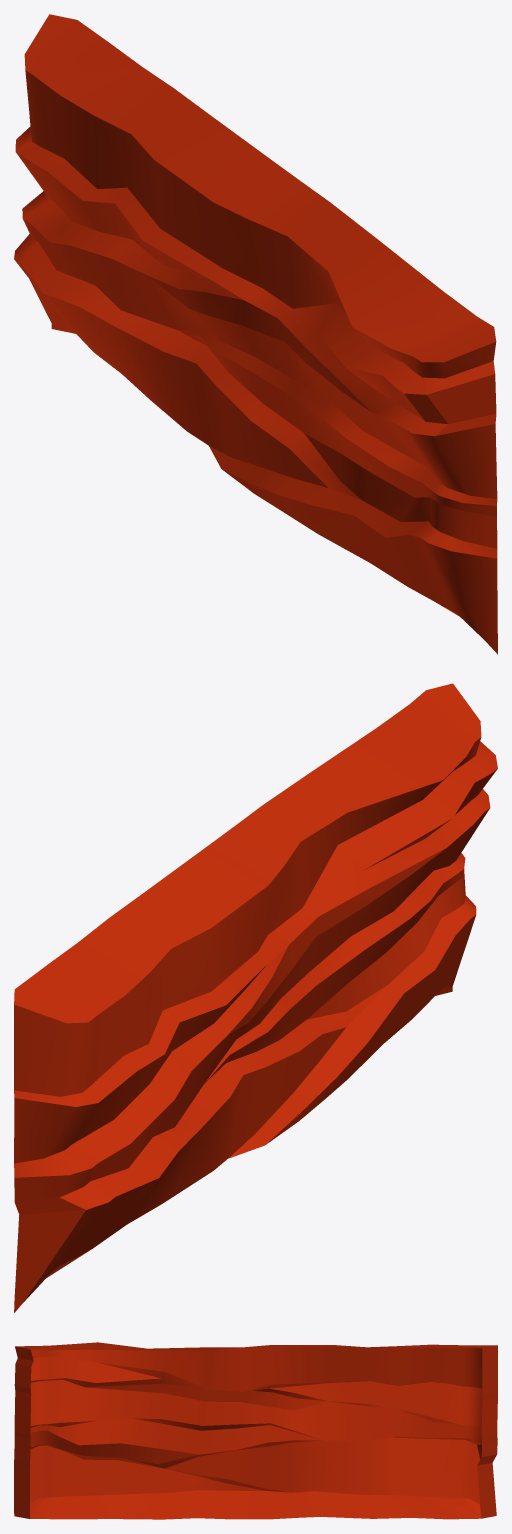
File: SM_Cave_Wall_02.fbx
3 views of the same model, one above another, from view 1: azimuth 30°, elevation 25°; view 2: azimuth 150°, elevation 25°; view 3: azimuth 270°, elevation 25° (orthographic). The views are drawn at different scales.
Parts seen in each view (by area): view 1: polySurface1; view 2: polySurface1; view 3: polySurface1.
Part boxes in pixels (bbox=[...]): polySurface1: bbox=[14, 14, 497, 654]; polySurface1: bbox=[14, 683, 497, 1312]; polySurface1: bbox=[14, 1342, 497, 1519].
Bounding box in the file's own units: 349 × 1171 × 2980.
